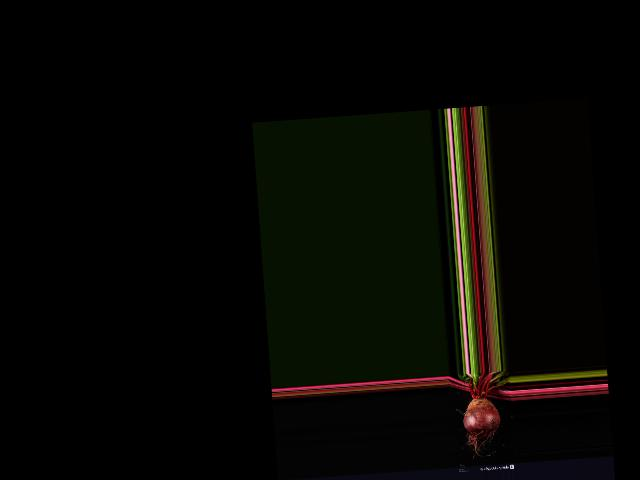beet: (459, 370, 515, 461)
